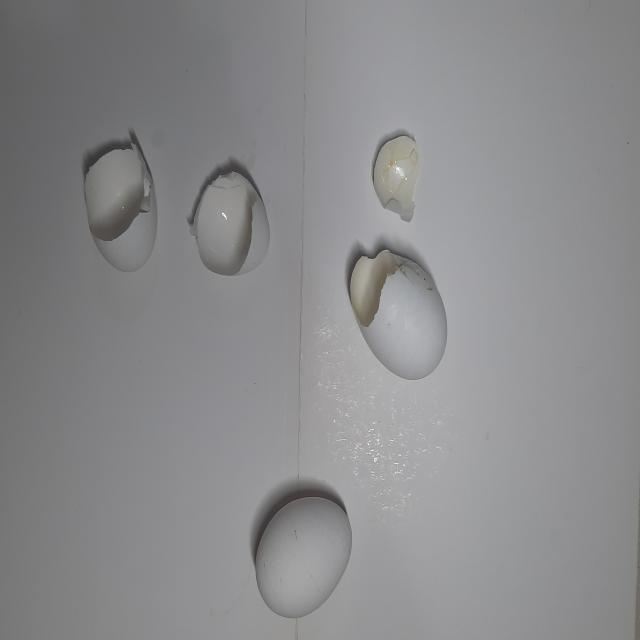egg shell: (342, 243, 451, 390), (250, 490, 355, 625), (81, 133, 159, 279), (188, 158, 274, 284), (370, 134, 429, 222)
